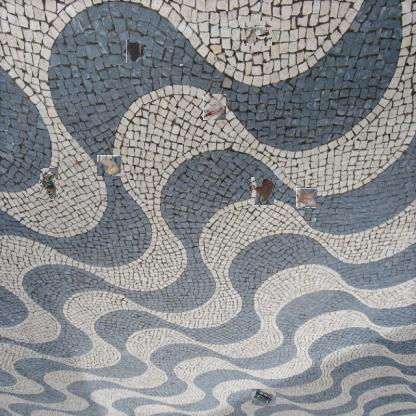dirty: (244, 22, 272, 48), (203, 95, 227, 120), (40, 168, 58, 200), (98, 155, 121, 177), (252, 390, 276, 408), (296, 187, 316, 208)
liquid: (249, 178, 275, 204), (124, 42, 144, 61)
